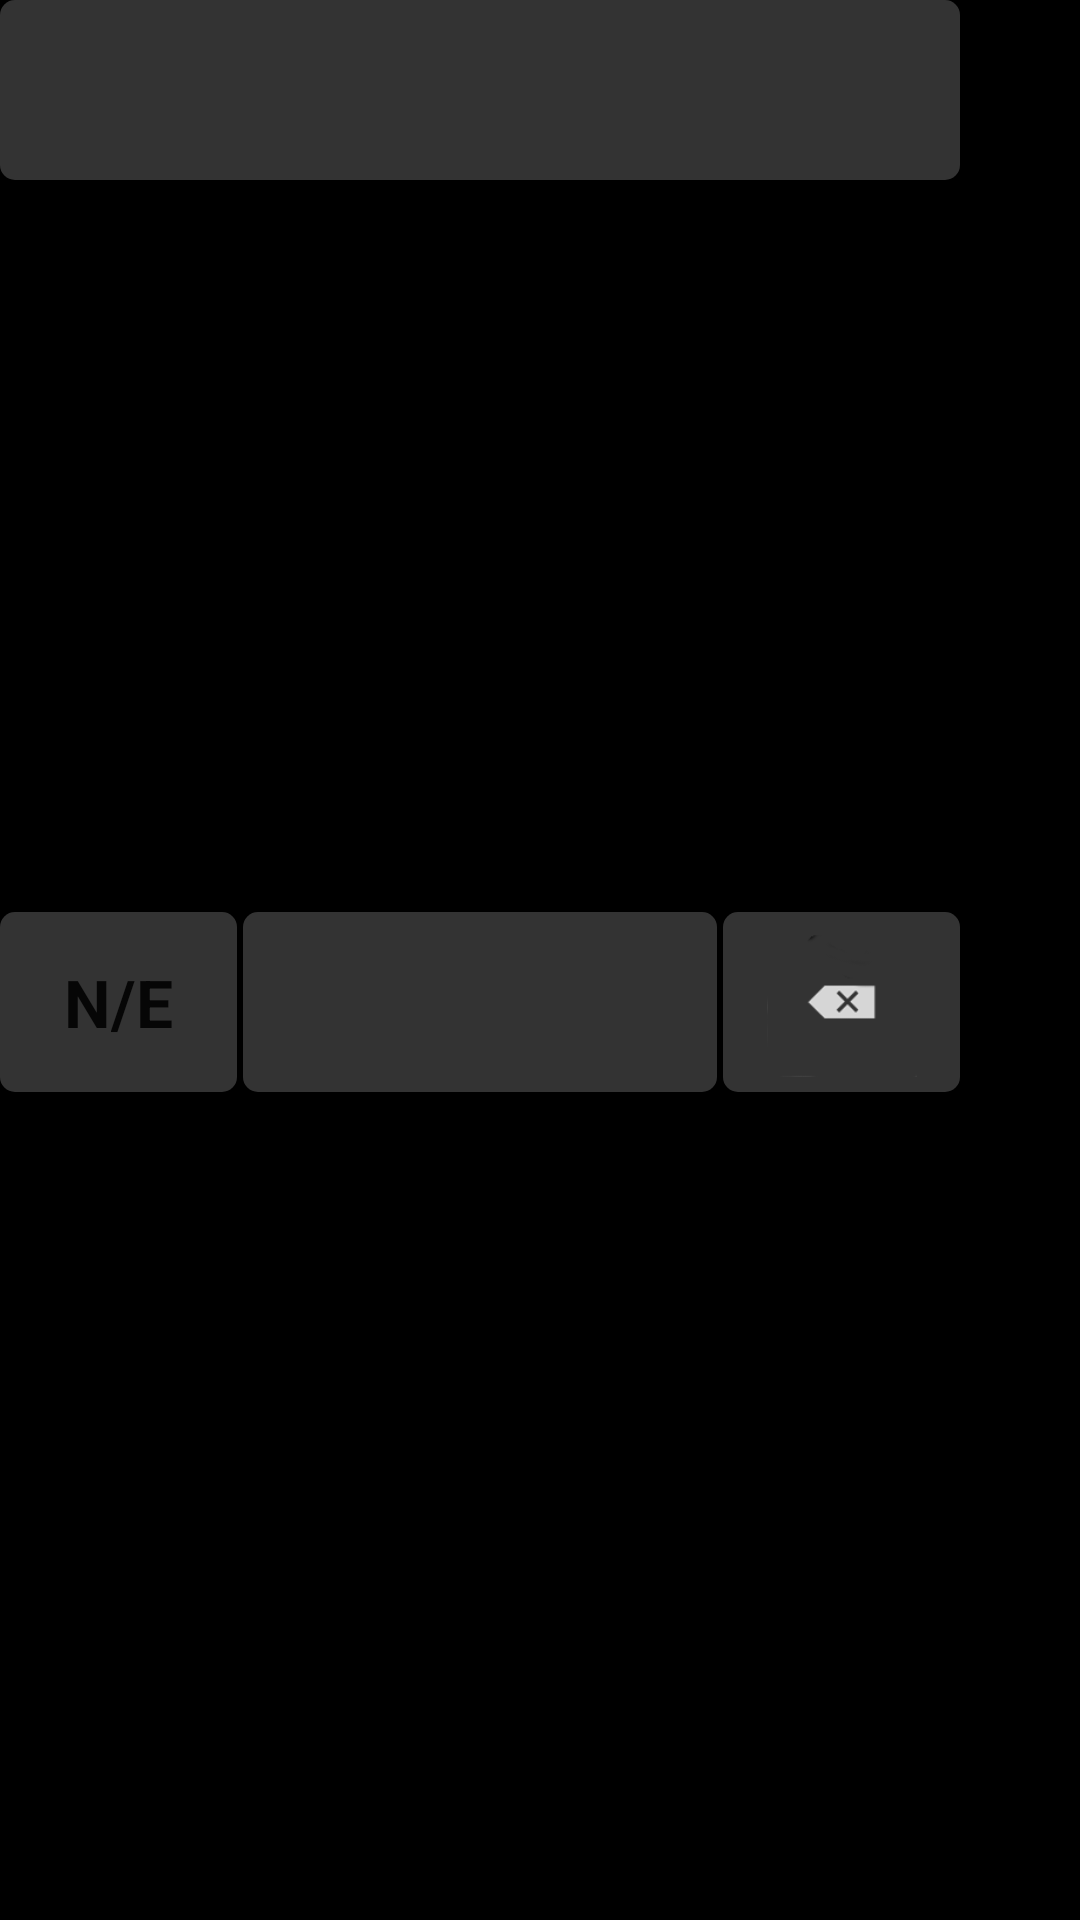

Icon bounding boxes for this 1080x1920 phone screenshot, format {"x1": x1, "y1": y1, "x2": x2, "y2": y2}:
backspace: {"x1": 723, "y1": 912, "x2": 960, "y2": 1092}
